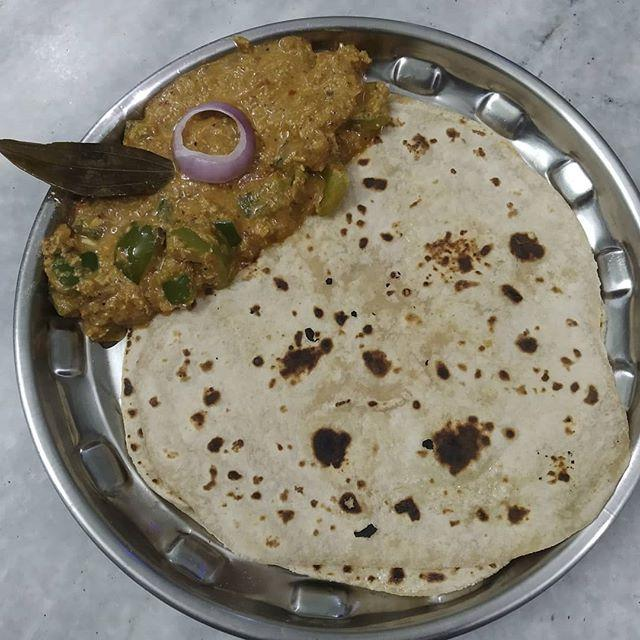Roti: (155, 126, 605, 569)
